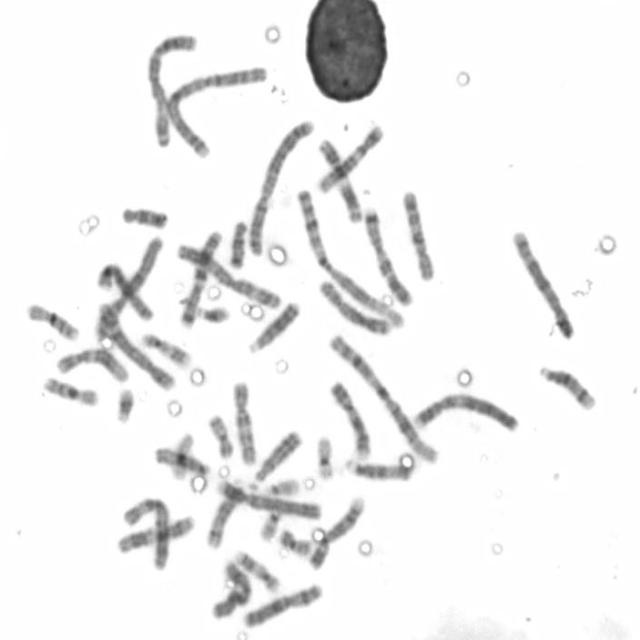A1: (293, 184, 406, 332), (326, 328, 440, 467)
A2: (160, 62, 268, 158), (244, 117, 316, 256)
A3: (173, 237, 282, 310), (143, 29, 203, 155)
B4: (409, 388, 520, 434), (213, 475, 321, 520)
B5: (509, 225, 576, 342), (96, 298, 178, 392)
C10: (398, 186, 436, 283), (228, 377, 258, 468)
C11: (313, 134, 363, 225), (113, 509, 197, 555)
C12: (314, 119, 386, 195), (54, 343, 130, 384)
C6: (93, 235, 159, 343), (118, 491, 172, 571)
C7: (361, 203, 414, 308), (177, 227, 224, 328)
C8: (317, 276, 394, 336), (96, 261, 154, 322)
C9: (305, 492, 367, 572), (327, 377, 372, 459)
D13: (245, 426, 303, 492), (244, 297, 300, 355)
D14: (534, 360, 598, 412), (203, 478, 245, 551)
D15: (152, 445, 211, 483), (342, 455, 414, 483)
E16: (24, 298, 80, 342), (40, 372, 100, 408)
E17: (232, 545, 281, 594), (138, 328, 192, 371)
E18: (116, 202, 168, 232), (226, 215, 249, 269)
F19: (167, 428, 194, 482), (313, 431, 336, 482)
F20: (205, 411, 235, 460), (275, 526, 312, 558)
G21: (192, 302, 231, 325), (113, 384, 135, 424)
G22: (255, 505, 283, 542), (262, 474, 300, 497)
X: (239, 579, 325, 630), (207, 556, 252, 620)
